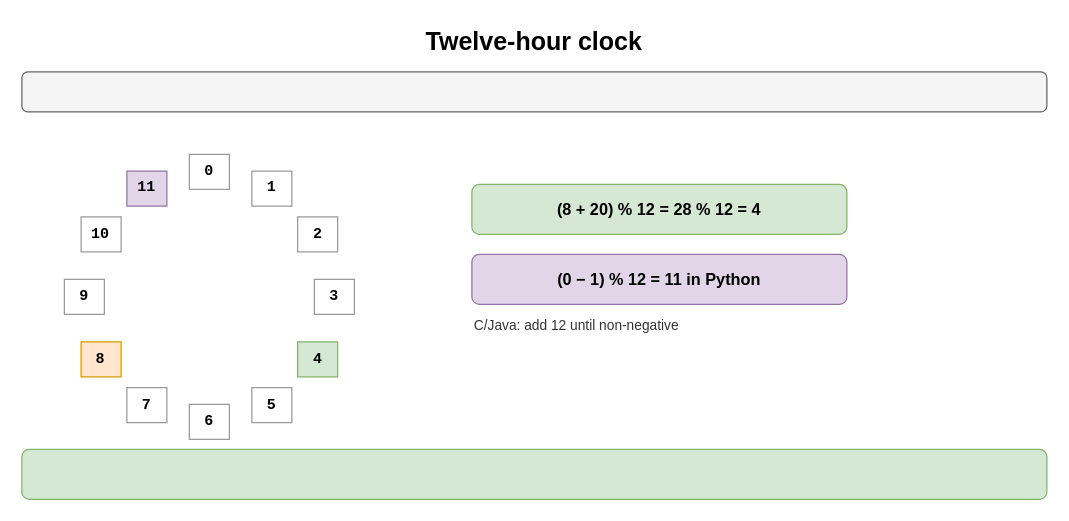
Image size: 1069x521. Some labels were removed from this diagram. The shapes that lost their labels are listed below. From the top down, each one's centre as x and y in pixels, then its label:
point (534, 91): The clock reads 8; a firing runs 20 hours. 12-hour face, 0 for midnight
point (534, 473): Answer: 4. One modulo is O(1); Python's % already wraps negatives to 11.
